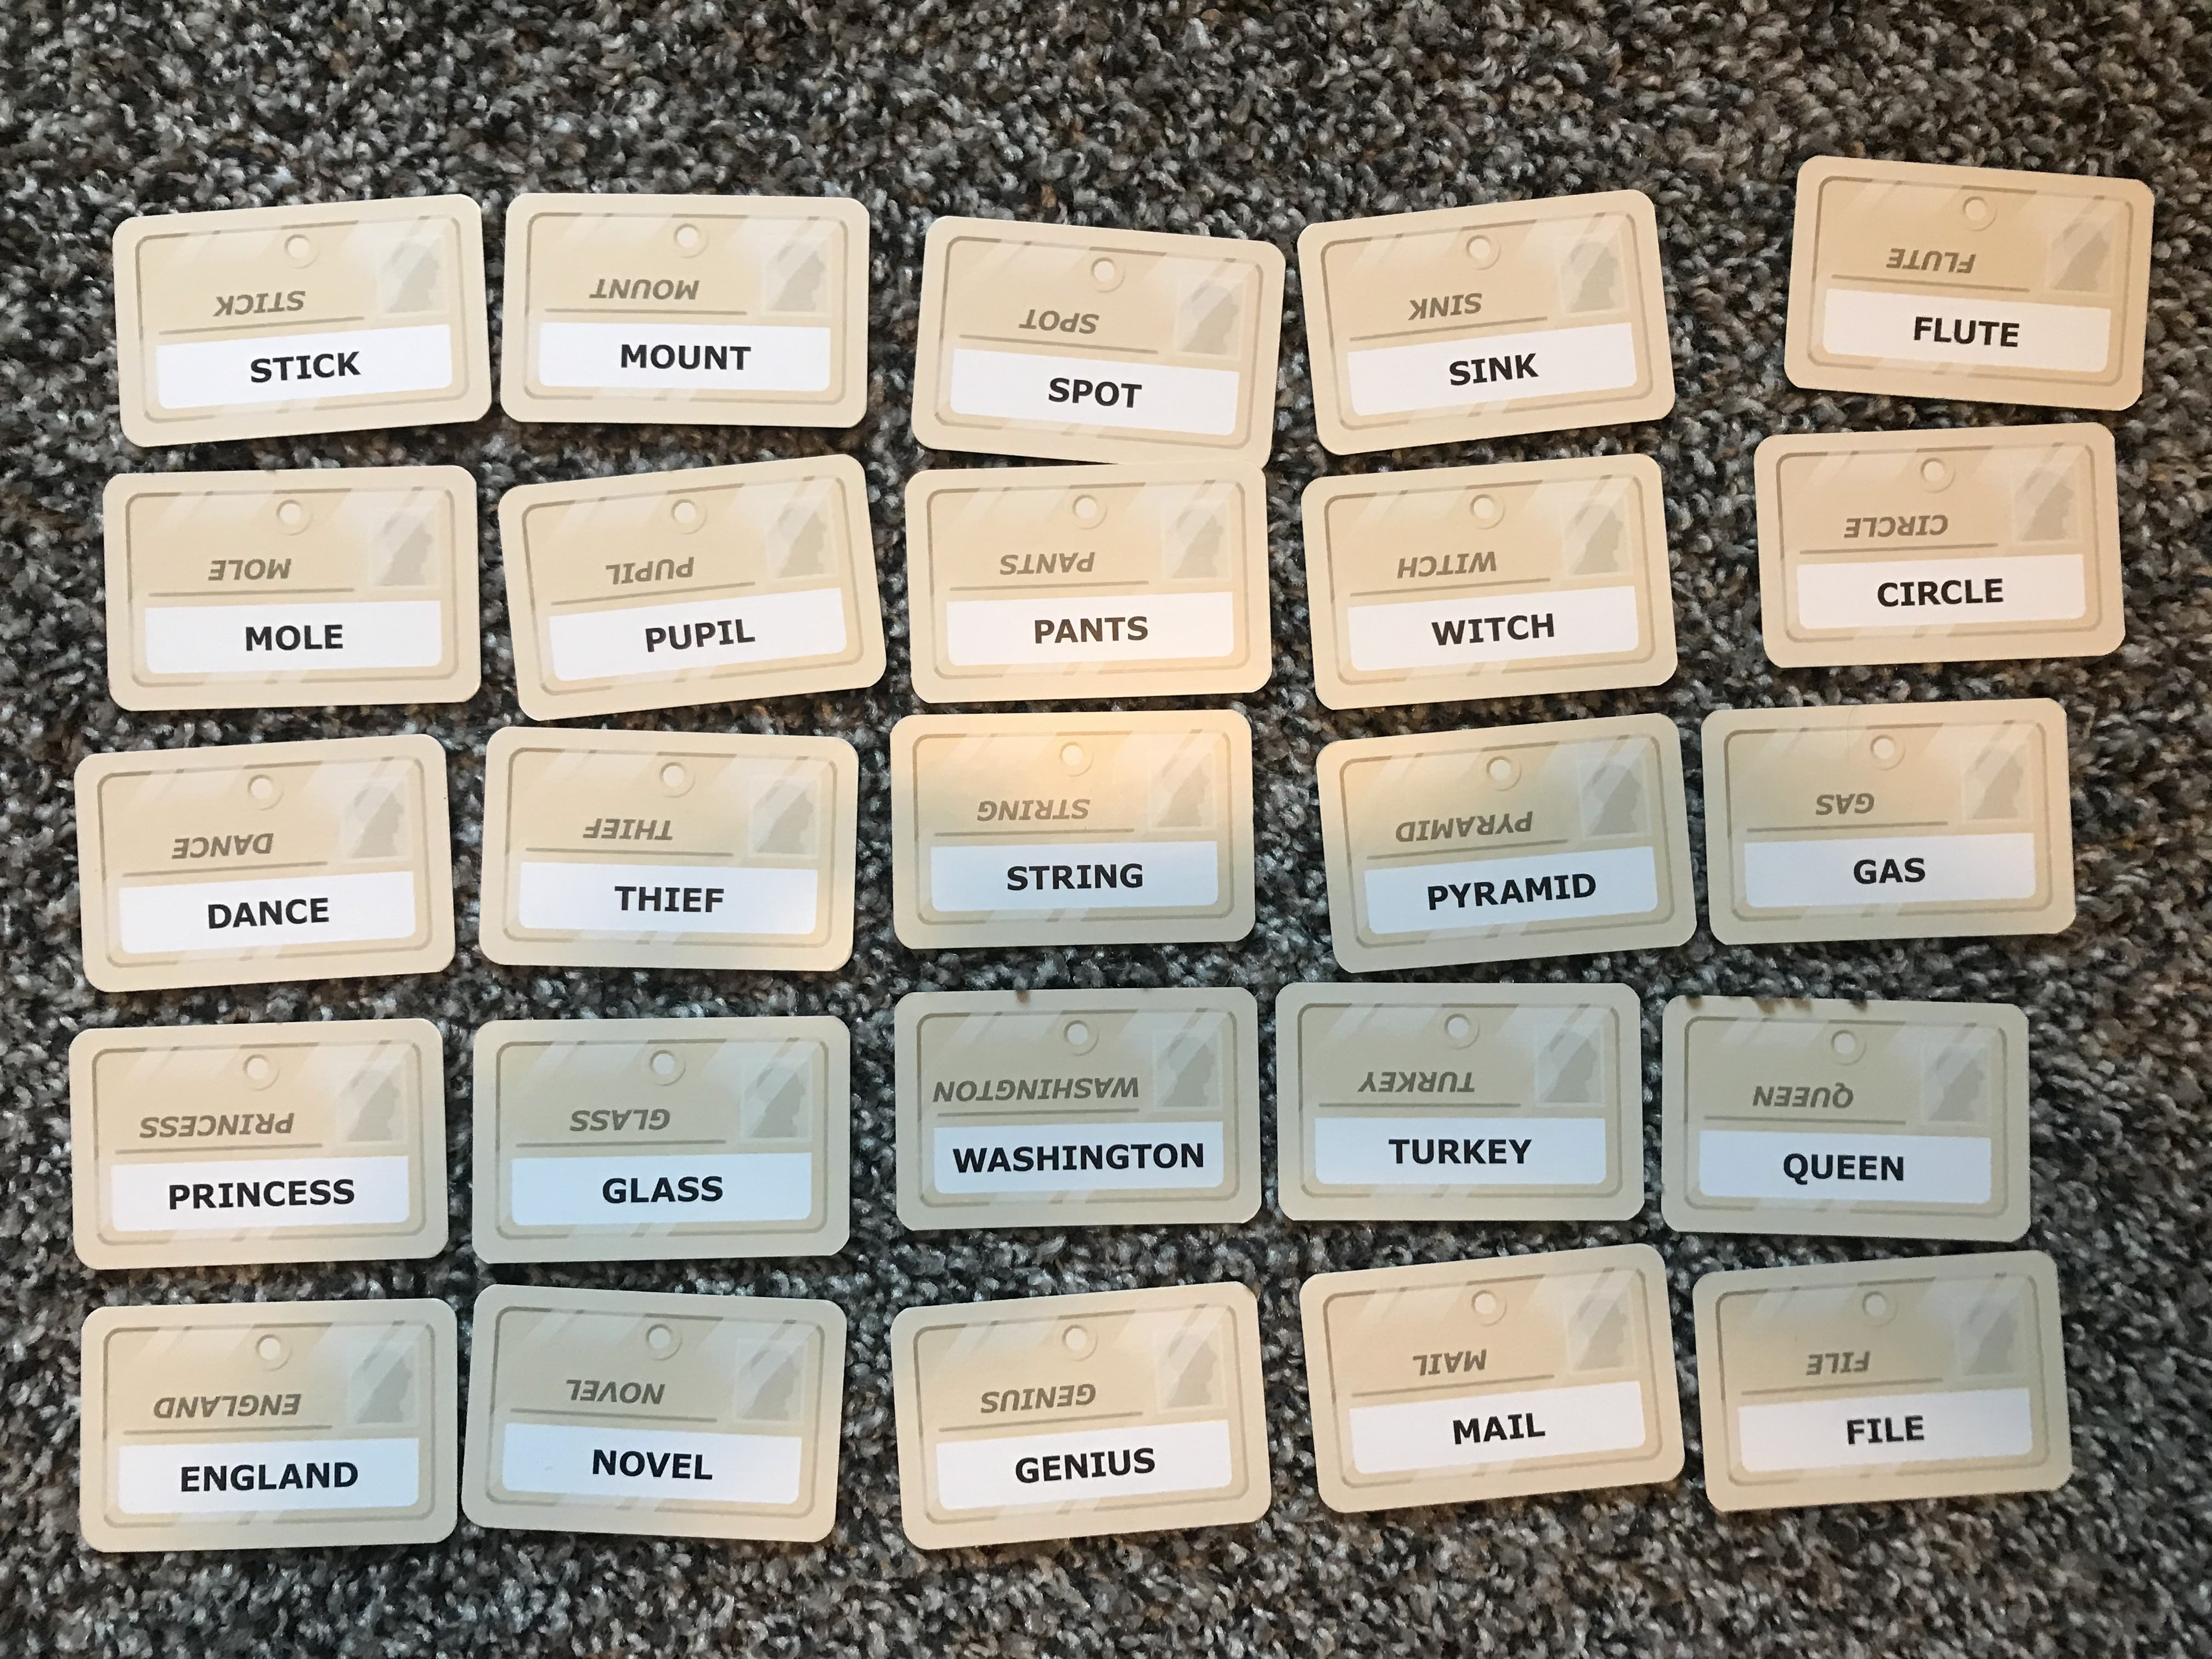A: (646, 1168, 678, 1213), (1480, 1408, 1507, 1453), (1878, 852, 1904, 896), (1052, 612, 1082, 650), (232, 894, 254, 943), (984, 1141, 1010, 1183), (275, 1457, 301, 1497), (1498, 873, 1522, 915)
